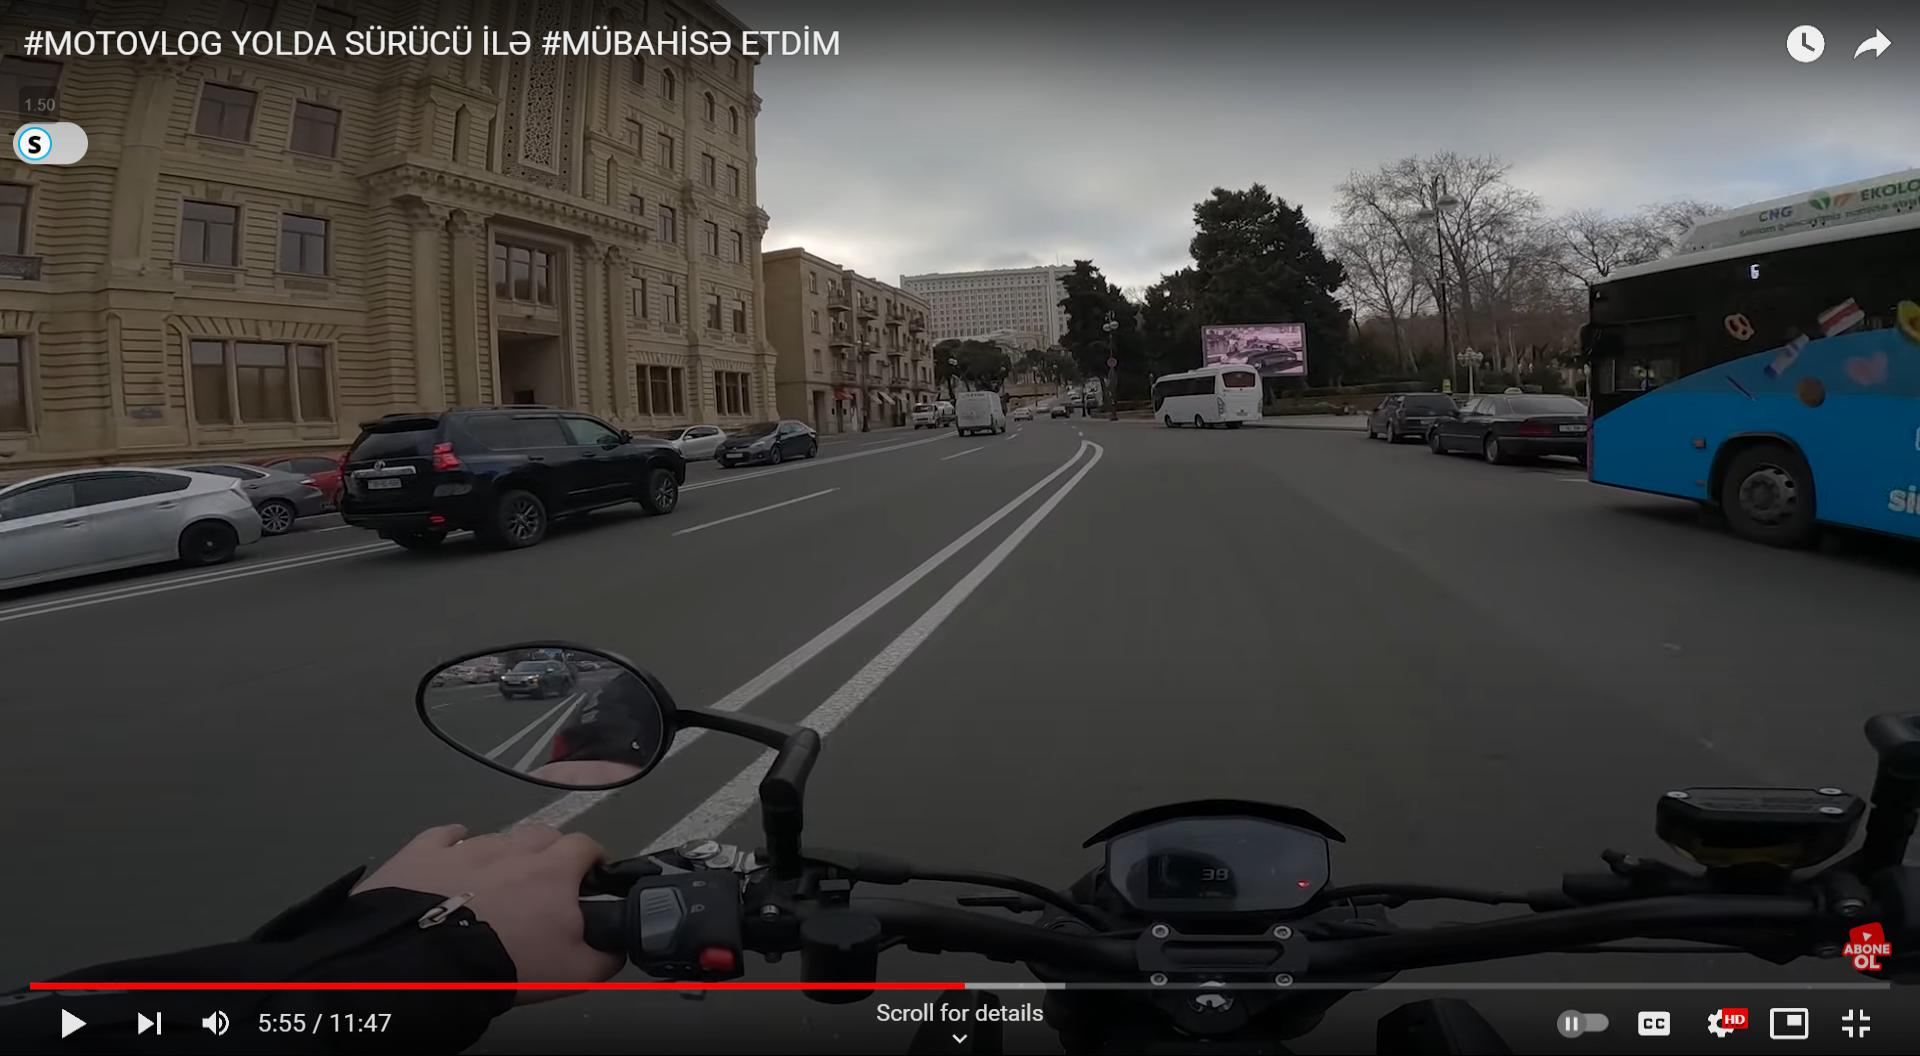banner: (1202, 323, 1310, 377)
